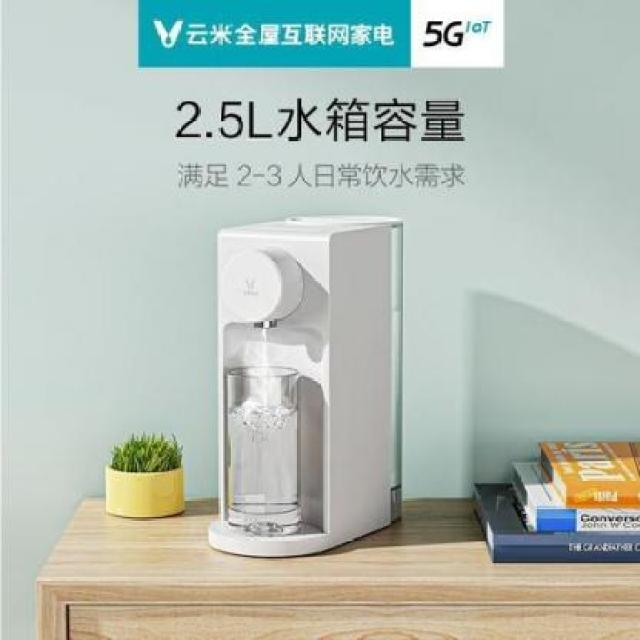cooler: (211, 212, 404, 557)
